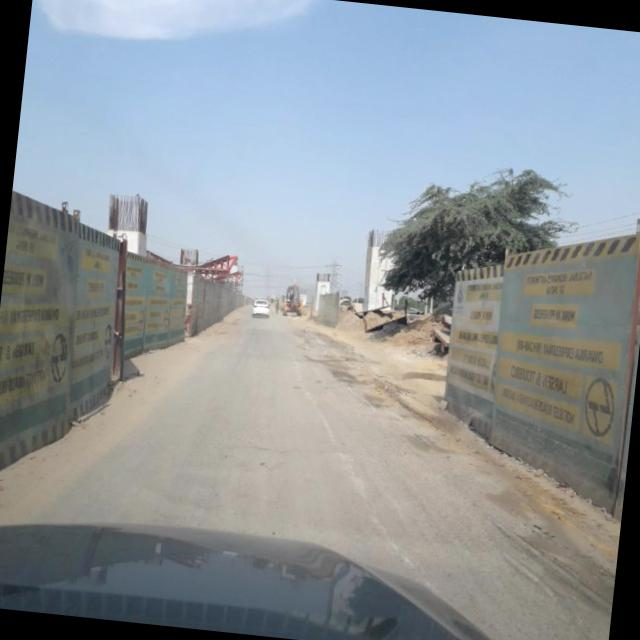pothole: (282, 372, 433, 560), (480, 518, 614, 602)
